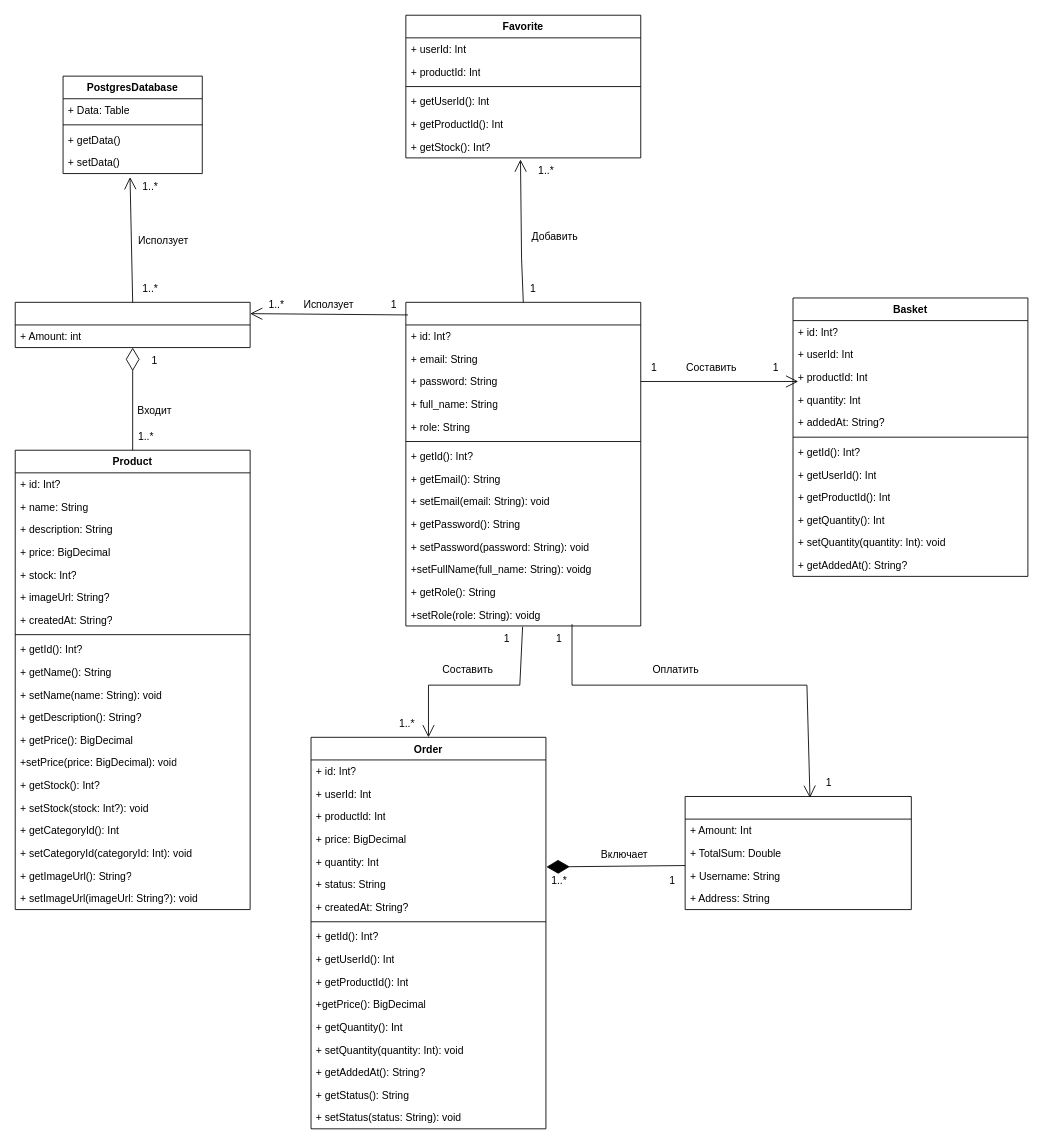
Some shapes in this 1043 by 1147 pixel diagram are drawn without their labels. Here are the shapes that lost their labels. From the top down, the box of each, then its label:
(14, 301, 250, 348): ProductCatalog
(405, 301, 641, 626): User
(684, 796, 911, 910): Payment
